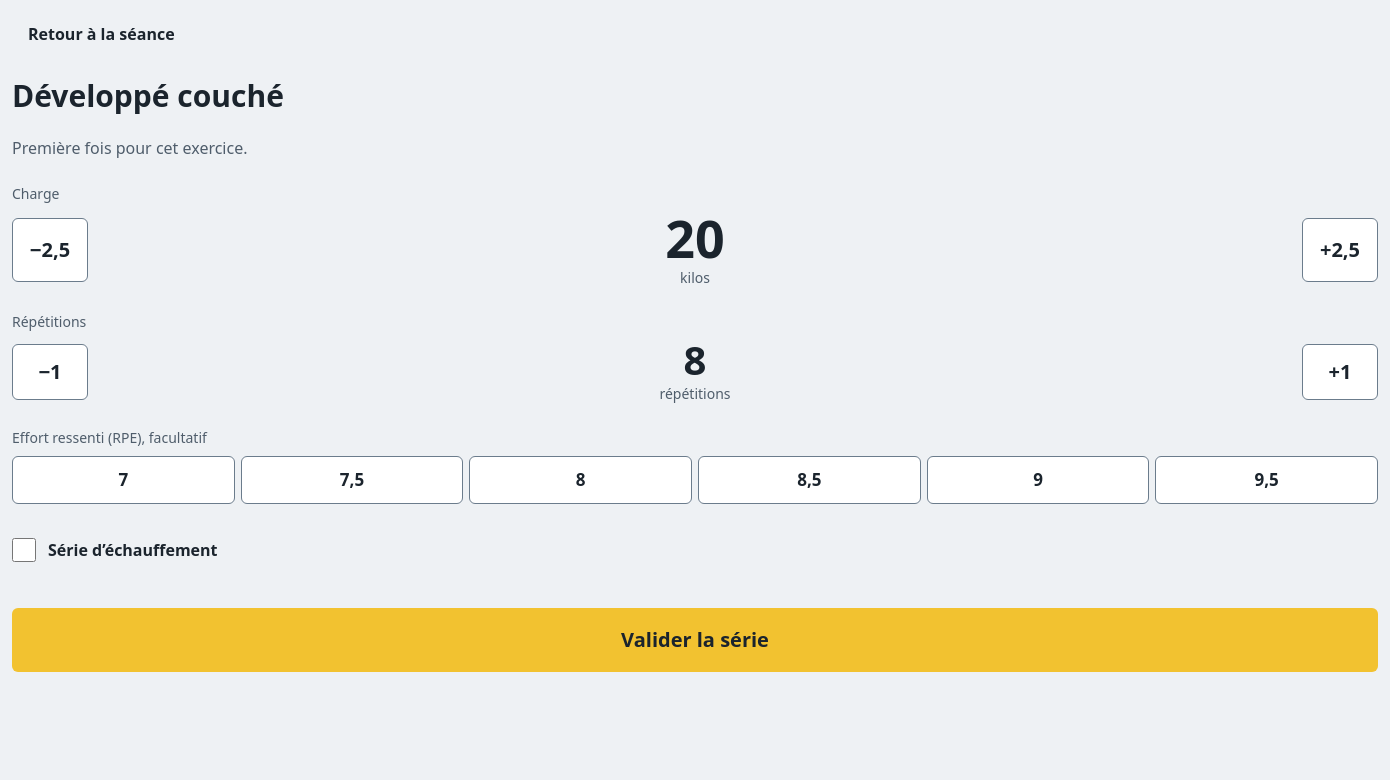
SetEntry › retire la série affichée et l'annonce si l'API la refuse
expect the text "Première fois pour cet exercice." is shown: met, box [12, 136, 248, 158]
Click the button "Valider la série" at (695, 640), box [12, 608, 1378, 672]
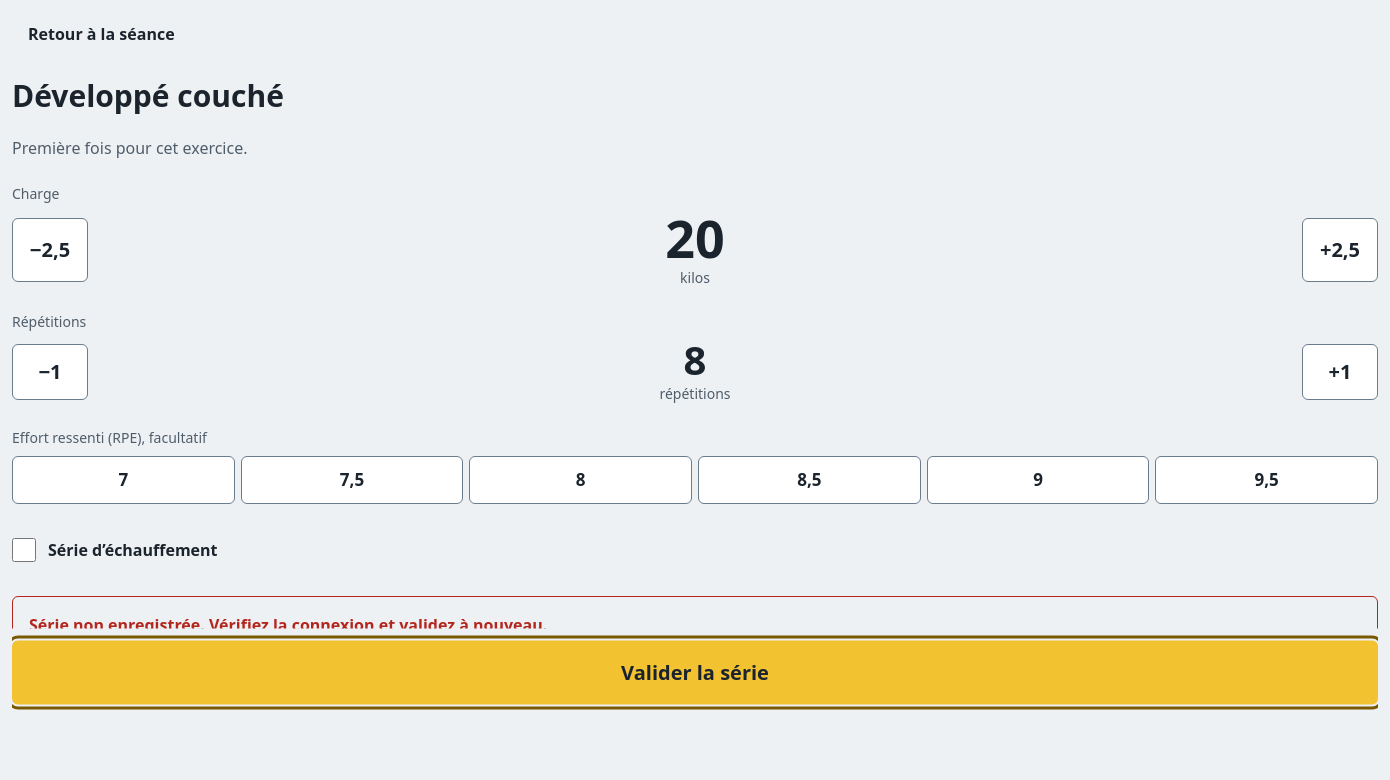
expect the text "Série non enregistrée. Vérifiez la connexion et validez à nouveau." is shown: met, box [12, 596, 1378, 654]
